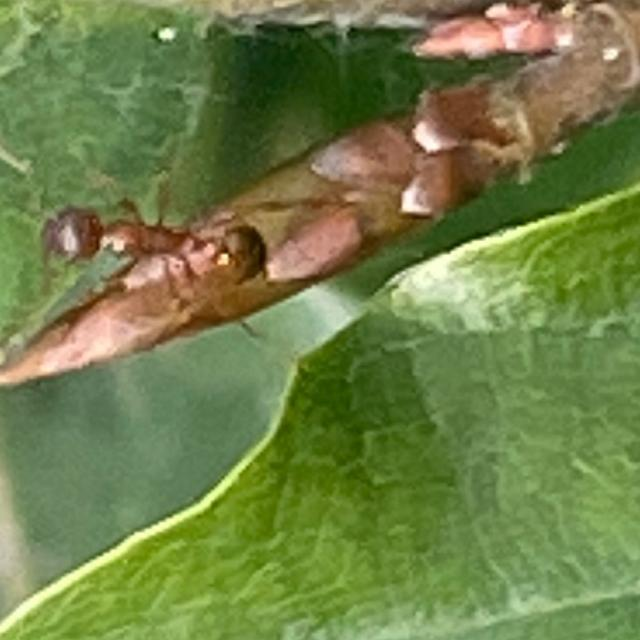Myrmica: (20, 158, 298, 300)
